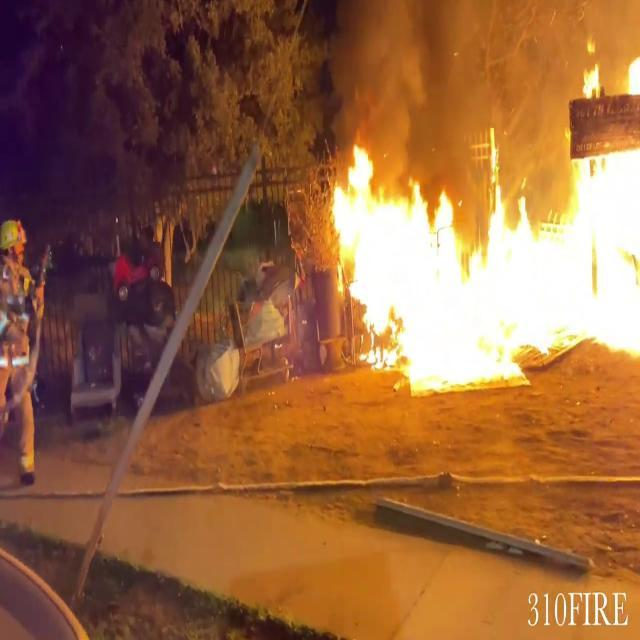Fire: (322, 120, 638, 390), (583, 52, 640, 96)
Smoke: (335, 0, 590, 204)
